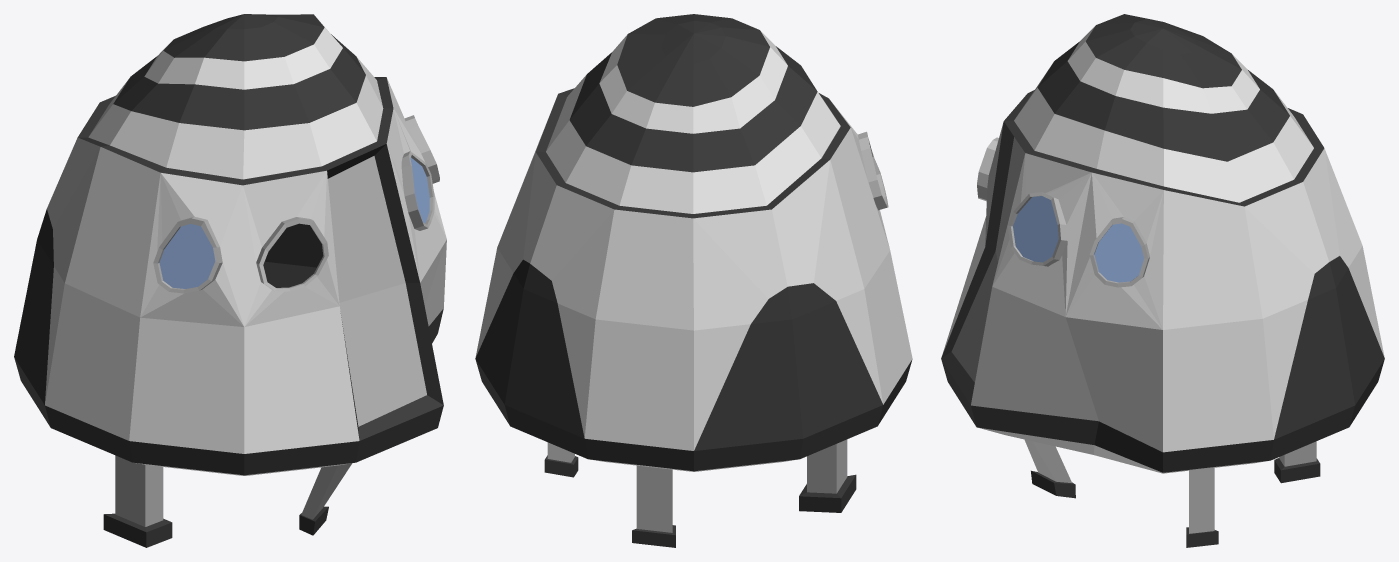
The model's file is SpaceShuttle.fbx.
The picture shows the model from 3 angles, left to right: view 1: azimuth 30°, elevation 25°; view 2: azimuth 150°, elevation 25°; view 3: azimuth 270°, elevation 25°; orthographic projection. The views are drawn at different scales.
Visible parts, largest first — view 1: Sphere.001; view 2: Sphere.001; view 3: Sphere.001.
Part boxes in pixels (x1,y1,x2,y2): Sphere.001: (14,14,446,547); Sphere.001: (475,14,912,547); Sphere.001: (941,14,1384,547).
Bounding box in the file's own units: 249 × 288 × 249.
